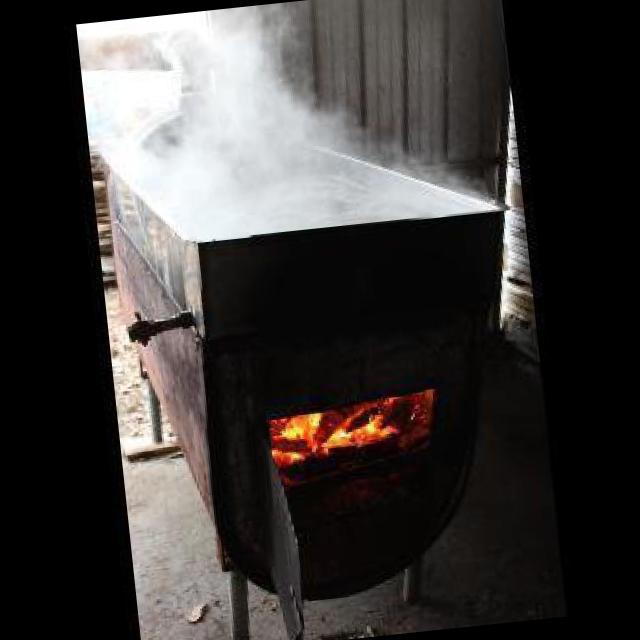Fire: (266, 403, 399, 456)
Smoke: (76, 0, 505, 254)
